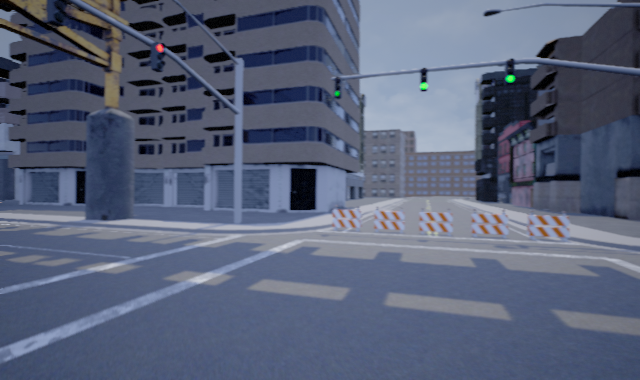pedestrian: (0, 194, 4, 213)
